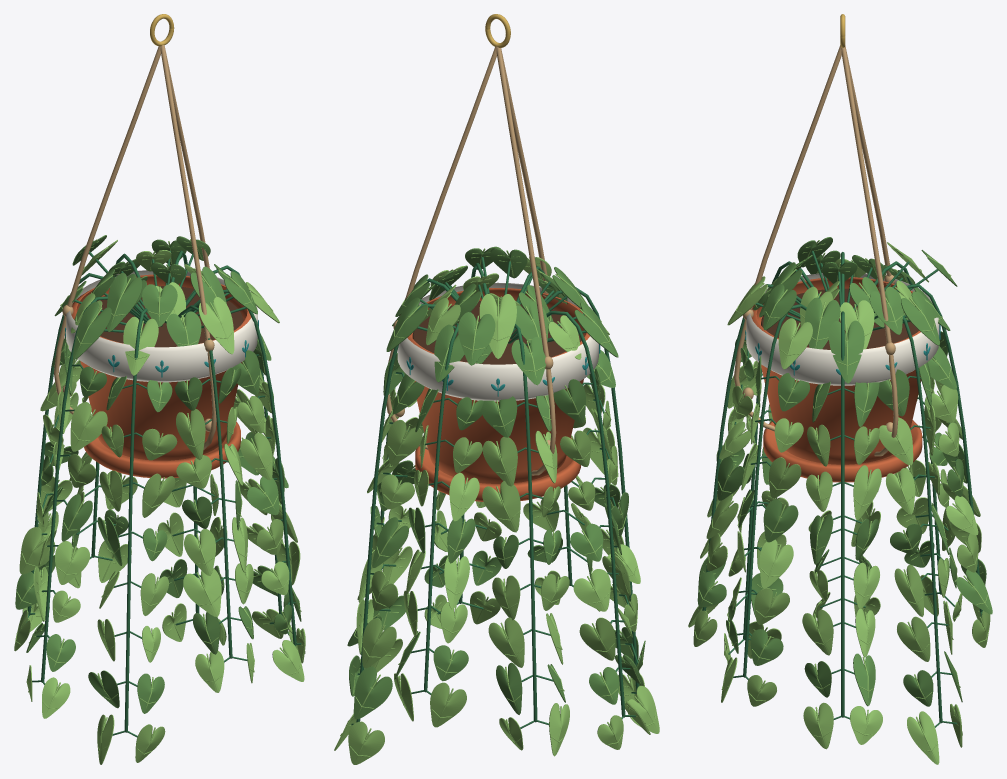
Rendered from hanging_simple_botanical.glb.
3 renders of one model, left to right at view 1: azimuth 30°, elevation 25°; view 2: azimuth 150°, elevation 25°; view 3: azimuth 270°, elevation 25°, orthographic. The views are drawn at different scales.
Visible parts, largest first — view 1: Terracotta_open_pot, Cream_botanical_collar, Separate_saucer, Braided_suspension.002, Braided_suspension, Main_trailing_stem.007, Main_trailing_stem.006, Main_trailing_stem.001, Removable_soil, Main_trailing_stem, Broad_shaped_leaf.036, Broad_shaped_leaf.010 (+55 smaller); view 2: Terracotta_open_pot, Cream_botanical_collar, Braided_suspension.002, Separate_saucer, Main_trailing_stem.006, Main_trailing_stem.005, Braided_suspension.001, Main_trailing_stem.004, Main_trailing_stem.003, Broad_shaped_leaf.012, Removable_soil, Broad_shaped_leaf.025 (+50 smaller); view 3: Terracotta_open_pot, Cream_botanical_collar, Separate_saucer, Braided_suspension.001, Braided_suspension, Main_trailing_stem.003, Main_trailing_stem.002, Main_trailing_stem.001, Broad_shaped_leaf.019, Removable_soil, Broad_shaped_leaf.011, Broad_shaped_leaf.024 (+56 smaller).
Boxes of the visible parts, x1=… form: Terracotta_open_pot: x1=71, y1=274, x2=251, y2=460; Cream_botanical_collar: x1=66, y1=270, x2=257, y2=382; Separate_saucer: x1=84, y1=421, x2=240, y2=478; Braided_suspension.002: x1=54, y1=46, x2=160, y2=414; Braided_suspension: x1=160, y1=45, x2=216, y2=449; Main_trailing_stem.007: x1=124, y1=308, x2=158, y2=732; Main_trailing_stem.006: x1=41, y1=296, x2=145, y2=682; Main_trailing_stem.001: x1=189, y1=289, x2=296, y2=645; Removable_soil: x1=97, y1=286, x2=243, y2=347; Main_trailing_stem: x1=178, y1=305, x2=232, y2=658; Broad_shaped_leaf.036: x1=183, y1=568, x2=221, y2=616; Broad_shaped_leaf.010: x1=107, y1=273, x2=142, y2=332; Terracotta_open_pot: x1=407, y1=288, x2=589, y2=483; Cream_botanical_collar: x1=397, y1=282, x2=598, y2=401; Braided_suspension.002: x1=496, y1=46, x2=556, y2=475; Separate_saucer: x1=415, y1=437, x2=580, y2=501; Main_trailing_stem.006: x1=511, y1=311, x2=625, y2=717; Main_trailing_stem.005: x1=514, y1=324, x2=537, y2=722; Braided_suspension.001: x1=386, y1=46, x2=496, y2=449; Main_trailing_stem.004: x1=424, y1=324, x2=458, y2=692; Main_trailing_stem.003: x1=356, y1=303, x2=447, y2=722; Broad_shaped_leaf.012: x1=479, y1=294, x2=516, y2=359; Removable_soil: x1=412, y1=301, x2=583, y2=364; Broad_shaped_leaf.025: x1=458, y1=312, x2=495, y2=365; Terracotta_open_pot: x1=752, y1=277, x2=921, y2=464; Cream_botanical_collar: x1=746, y1=273, x2=939, y2=385; Separate_saucer: x1=763, y1=420, x2=922, y2=482; Braided_suspension.001: x1=841, y1=46, x2=898, y2=456; Braided_suspension: x1=734, y1=45, x2=841, y2=431; Main_trailing_stem.003: x1=873, y1=311, x2=942, y2=723; Main_trailing_stem.002: x1=841, y1=311, x2=844, y2=717; Main_trailing_stem.001: x1=743, y1=304, x2=806, y2=677; Broad_shaped_leaf.019: x1=828, y1=320, x2=864, y2=383; Removable_soil: x1=761, y1=288, x2=919, y2=349; Broad_shaped_leaf.011: x1=805, y1=297, x2=840, y2=349; Broad_shaped_leaf.024: x1=778, y1=318, x2=812, y2=369.
Size of the model in its own units: 0.4845 by 1.22 by 0.4829.
